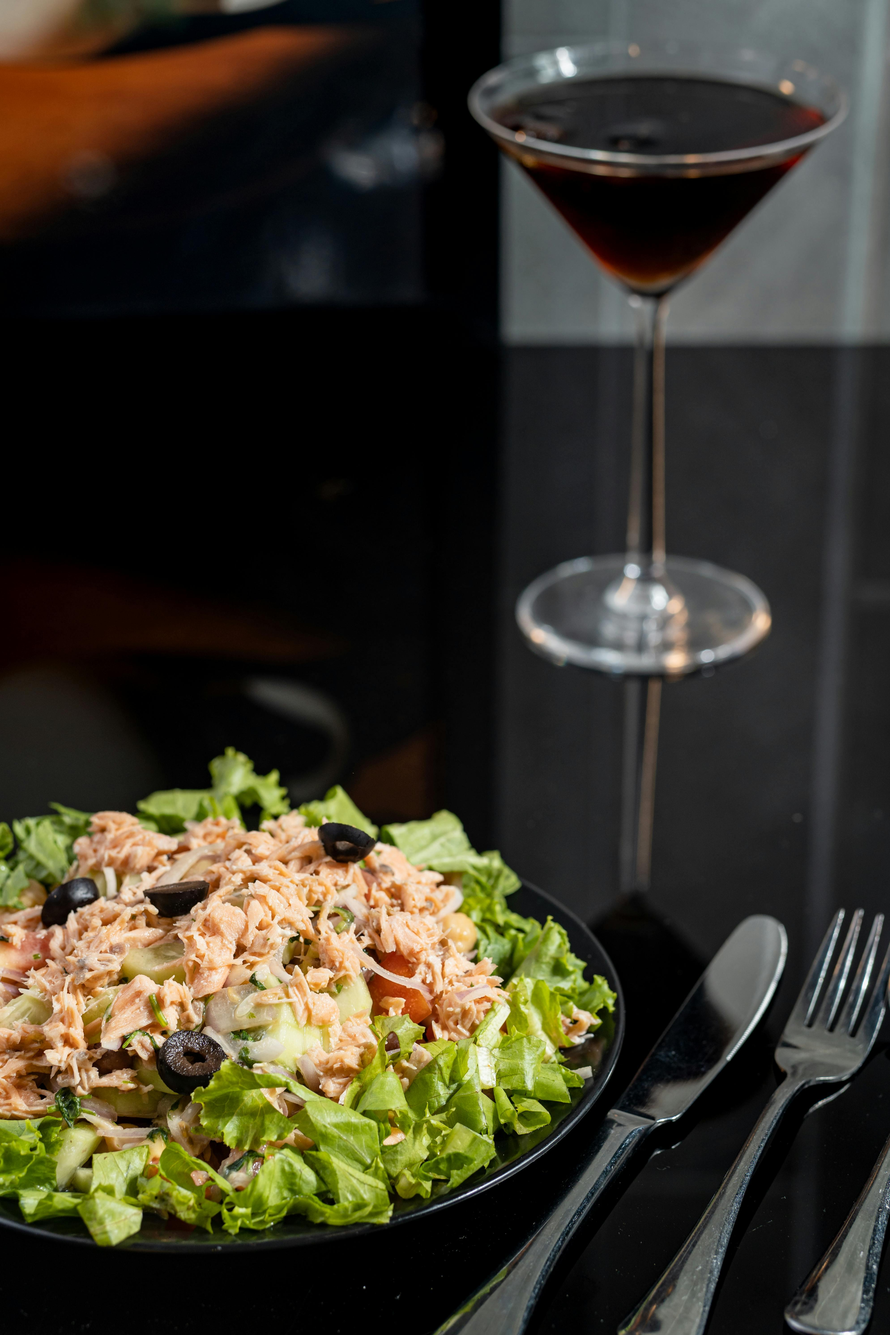spinach: (0, 770, 743, 1258)
